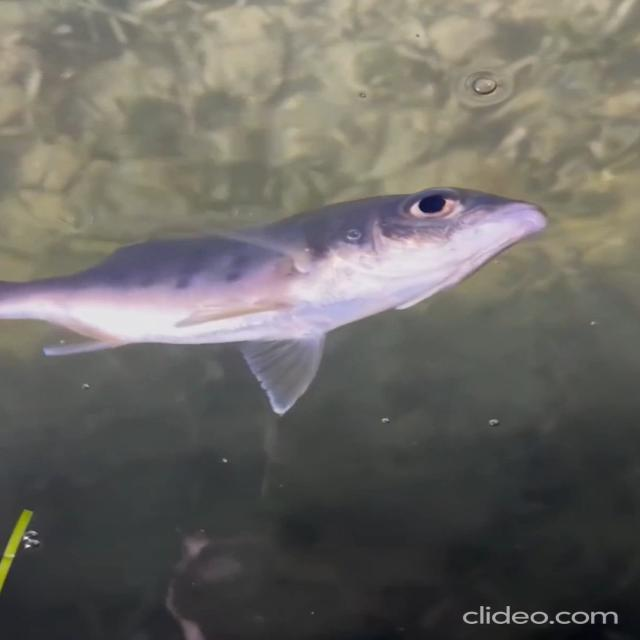fish: (0, 178, 560, 419)
